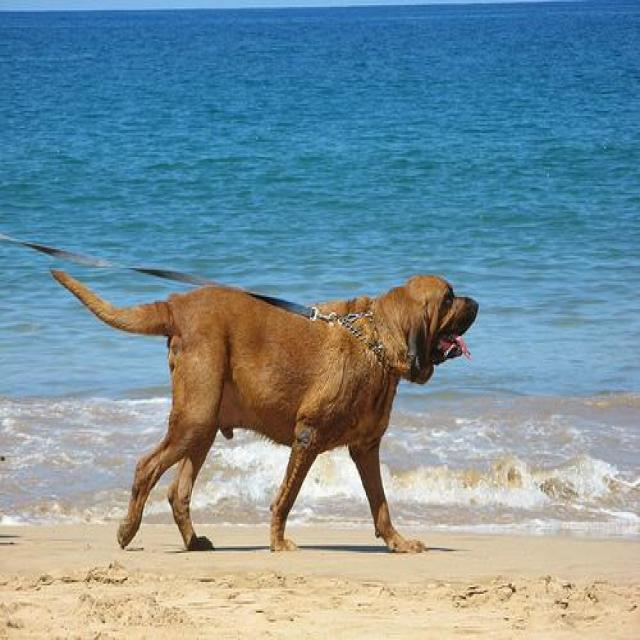good: (38, 224, 484, 540)
